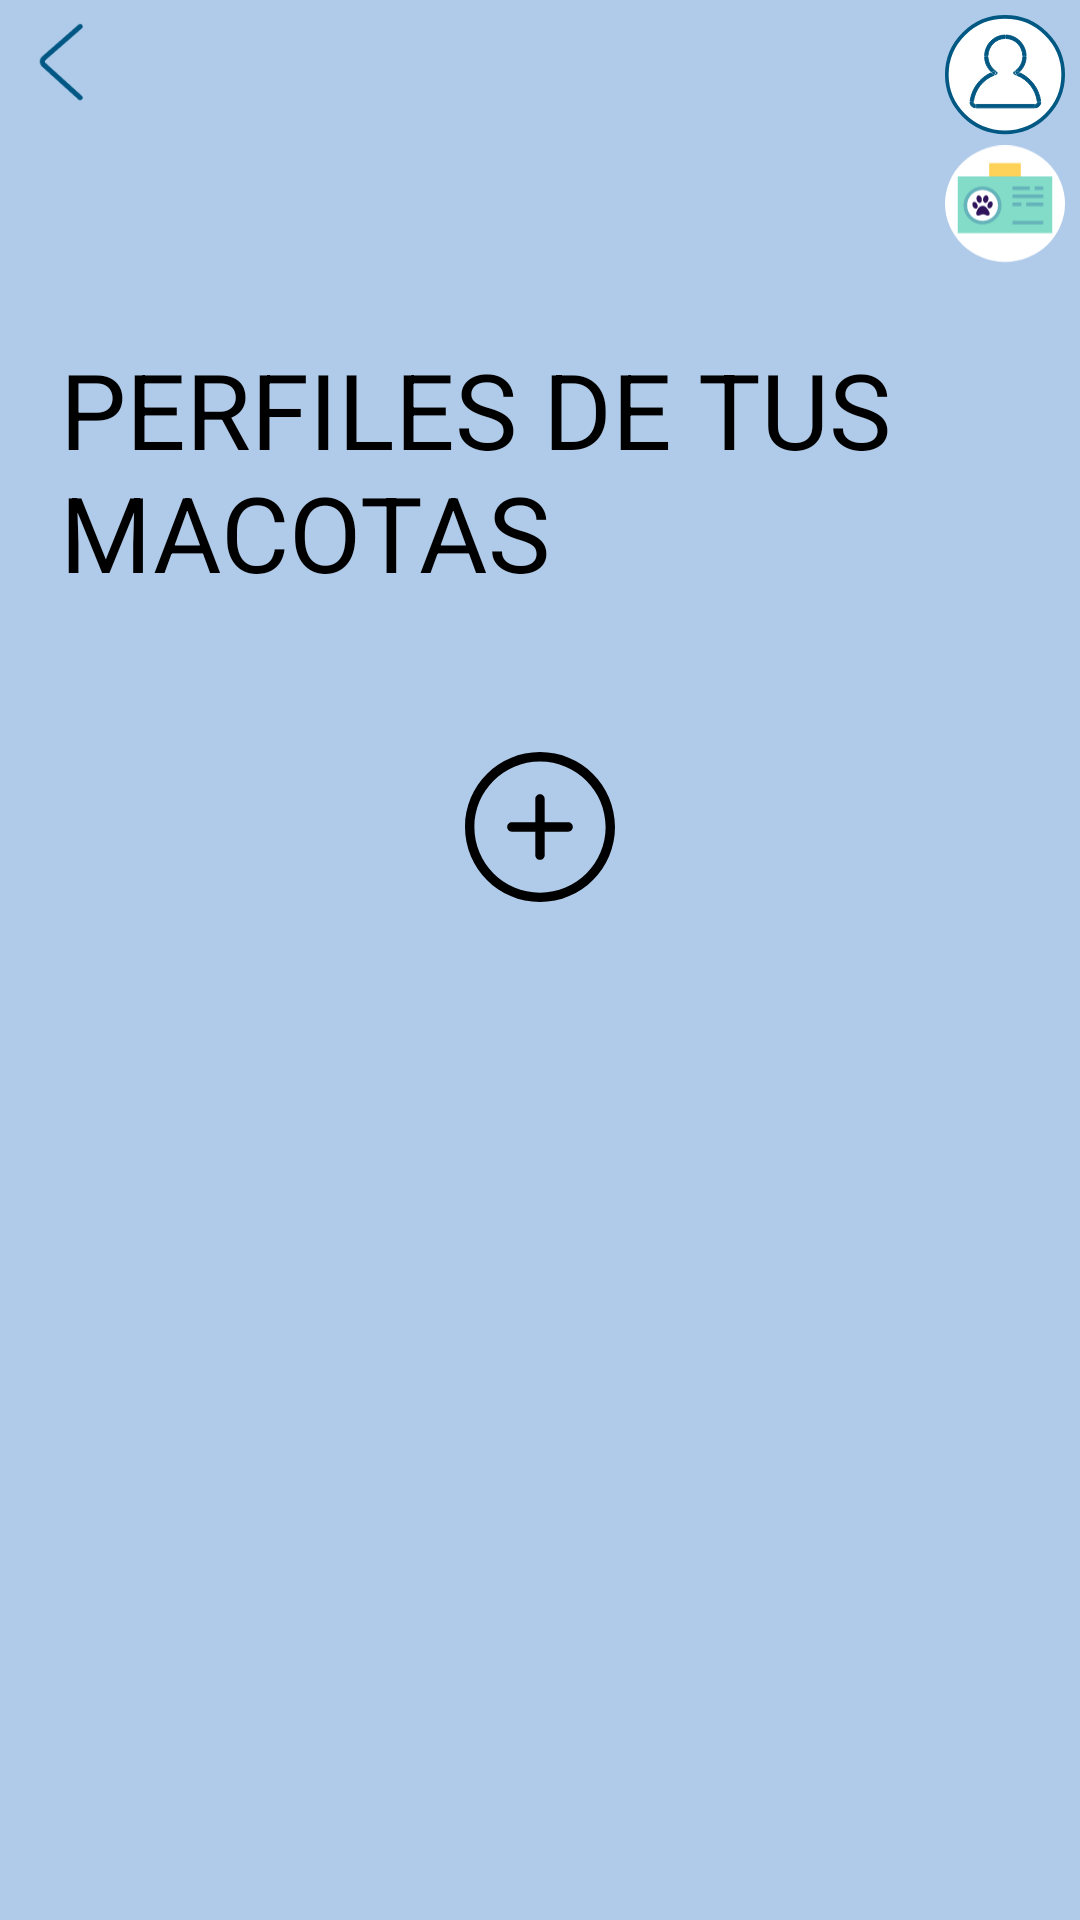

Screen size 1080 x 1920. Icon name, then its center in pixels as point (x, y):
Botón de atrás: point (61, 62)
carnet: point (1005, 203)
plus: point (540, 827)
